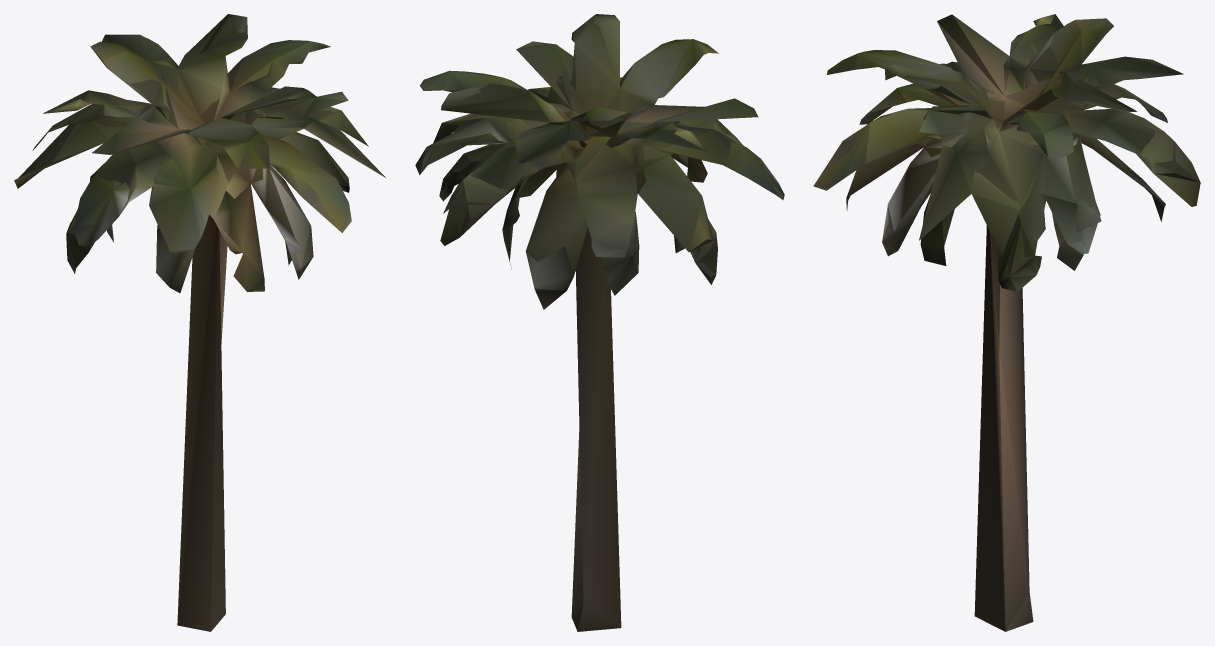
File: palm-sugar.glb
The picture shows the model from 3 angles, left to right: view 1: azimuth 30°, elevation 25°; view 2: azimuth 150°, elevation 25°; view 3: azimuth 270°, elevation 25°; orthographic projection. The views are drawn at different scales.
Size of the model in its own units: 1.2 by 1.99 by 1.22.
